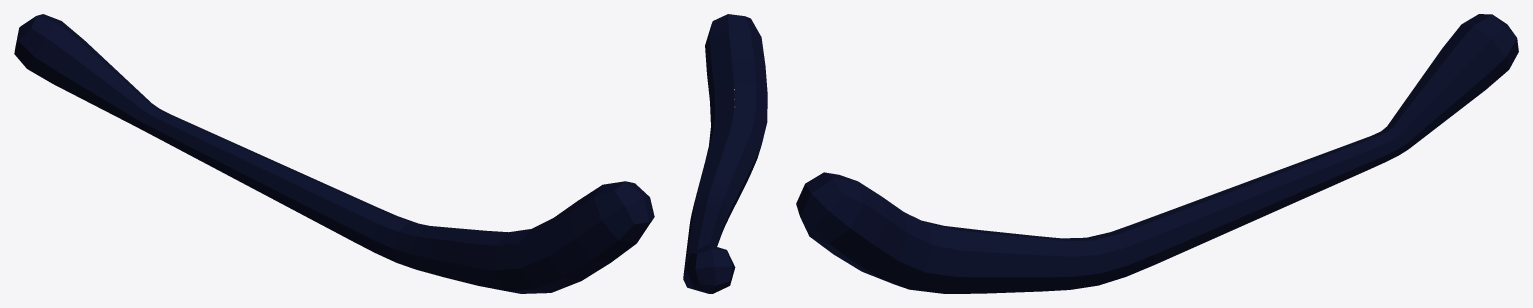
The model's file is CielingVine.glb.
The picture shows the model from 3 angles, left to right: view 1: azimuth 30°, elevation 25°; view 2: azimuth 150°, elevation 25°; view 3: azimuth 270°, elevation 25°; orthographic projection. The views are drawn at different scales.
Parts seen in each view (by area): view 1: Plane; view 2: Plane; view 3: Plane.
Part boxes in pixels (x1=…): Plane: x1=14, y1=14, x2=654, y2=293; Plane: x1=683, y1=14, x2=767, y2=293; Plane: x1=796, y1=14, x2=1518, y2=293.
Bounding box in the file's own units: 2.4 × 1.1 × 4.23.
Materials: 1 (1 with a texture image).
